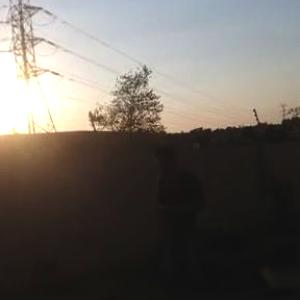follow: (148, 141, 206, 299)
